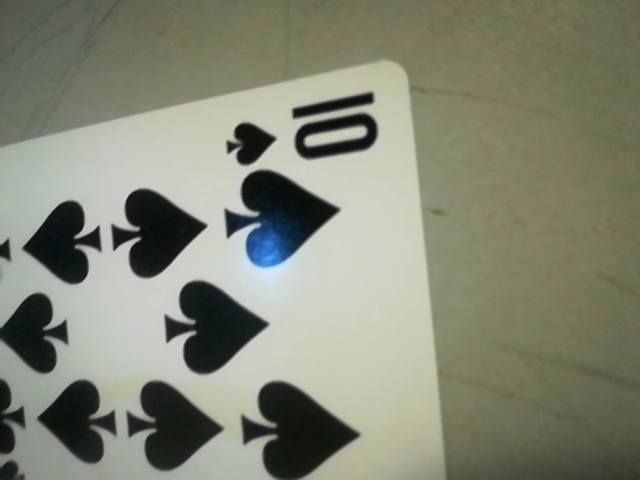ht 10: (222, 77, 391, 165)
